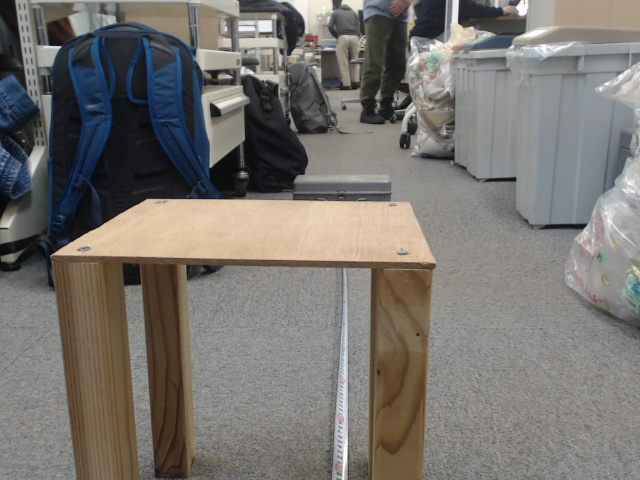desk: (255, 155, 482, 403)
